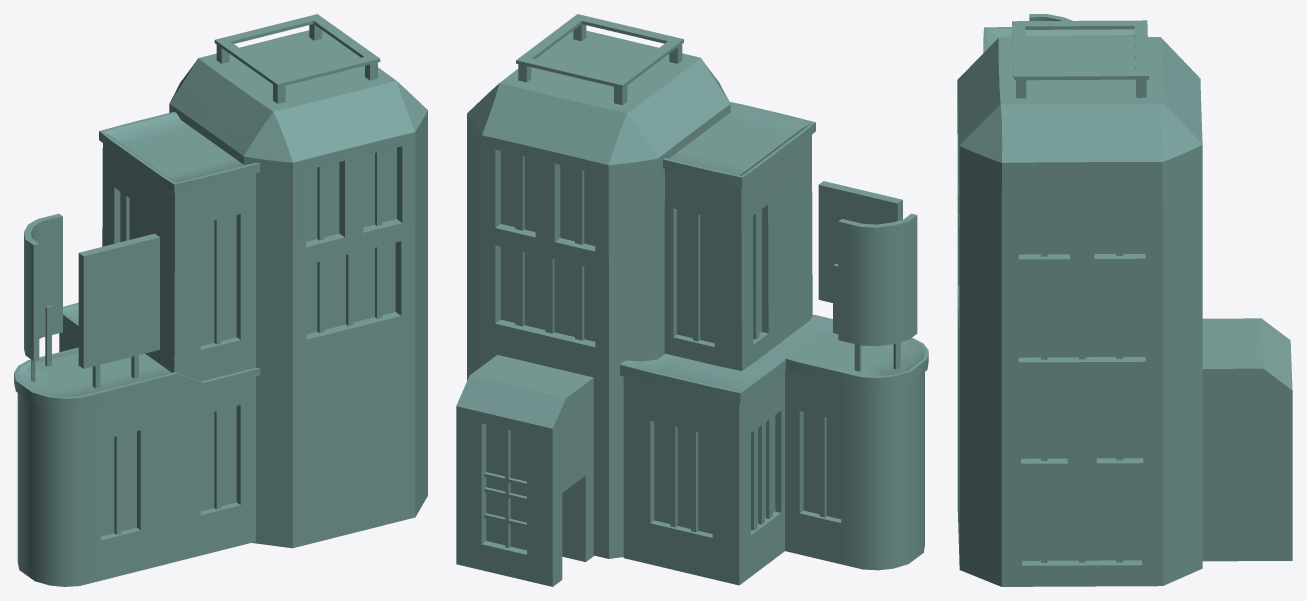
Rendered from building 1.fbx.
3 views of the same model, side by side, from view 1: azimuth 30°, elevation 25°; view 2: azimuth 150°, elevation 25°; view 3: azimuth 270°, elevation 25° (orthographic). The views are drawn at different scales.
Visible parts, largest first — view 1: building 1; view 2: building 1; view 3: building 1.
Boxes of the visible parts, box(x1,y1,x2,y2) form: building 1: box(14, 14, 427, 586); building 1: box(456, 14, 928, 586); building 1: box(957, 14, 1292, 586).
Bounding box in the file's own units: 3606 × 3947 × 2454.
